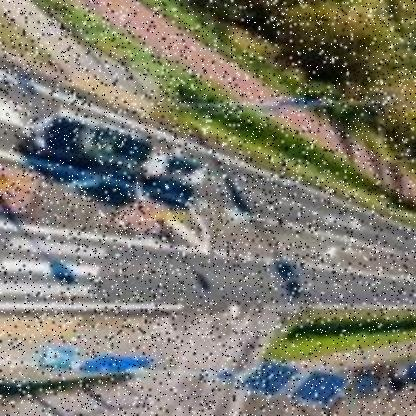Pedestrian Crossing: (36, 349, 76, 368)
